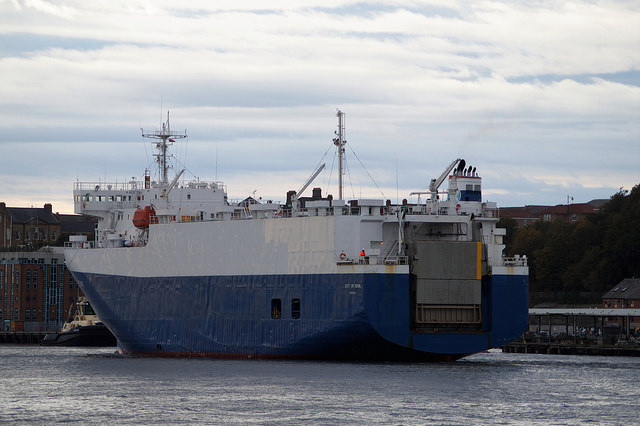PCC: (58, 117, 531, 362)
